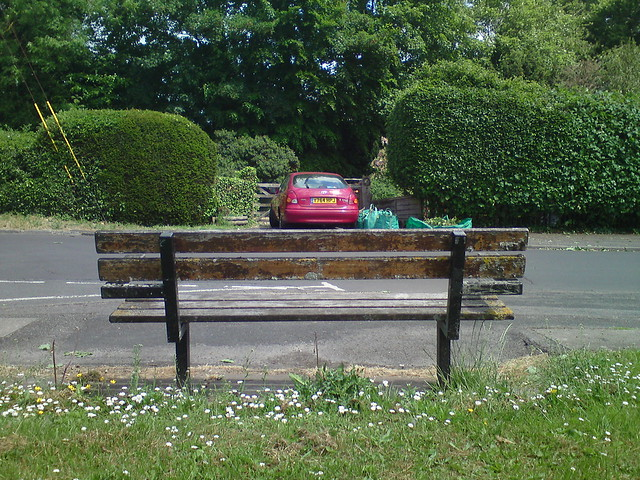car: (270, 170, 359, 230)
